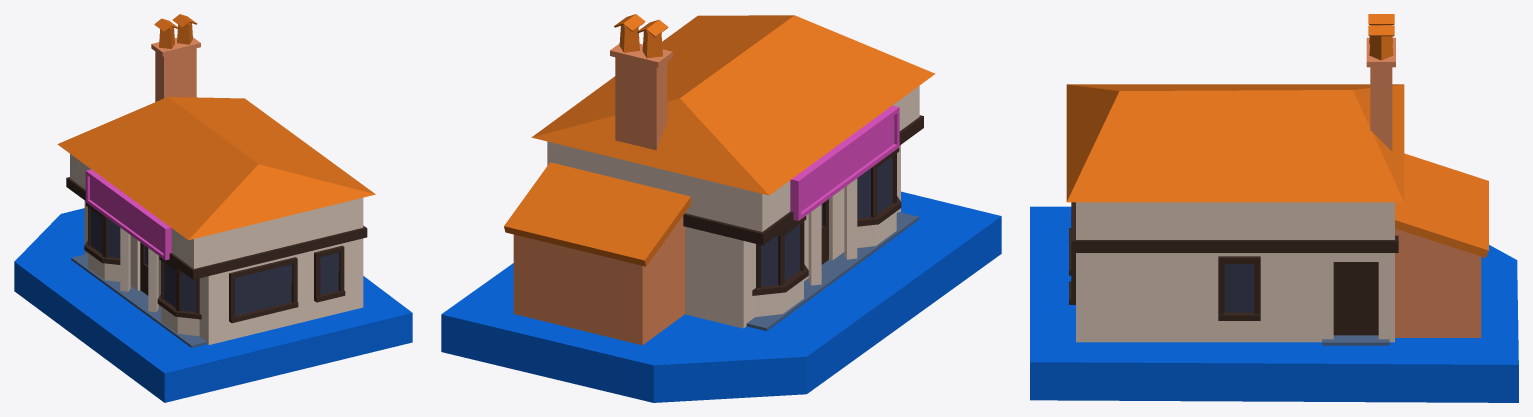
Rendered from Bakery Building3.fbx.
3 renders of one model, left to right at view 1: azimuth 30°, elevation 25°; view 2: azimuth 150°, elevation 25°; view 3: azimuth 270°, elevation 25°, orthographic. The views are drawn at different scales.
Visible parts, largest first — view 1: Bakery Terra.002, BakerY Foundation.002, Bakery White walls.002, Bakery Dark Wood.002, Bakery Windows.002, Bakery Sign.002, Bakery Brick.002, Plane.006; view 2: Bakery Terra.002, BakerY Foundation.002, Bakery Brick.002, Bakery White walls.002, Bakery Sign.002, Bakery Dark Wood.002, Bakery Windows.002, Plane.006; view 3: Bakery Terra.002, BakerY Foundation.002, Bakery White walls.002, Bakery Brick.002, Bakery Dark Wood.002, Bakery Windows.002, Plane.006.
Part boxes in pixels (left/top/right/bottom): Bakery Terra.002: left=57, top=14, right=375, bottom=240; BakerY Foundation.002: left=14, top=208, right=412, bottom=402; Bakery White walls.002: left=70, top=154, right=363, bottom=344; Bakery Dark Wood.002: left=66, top=177, right=367, bottom=323; Bakery Windows.002: left=91, top=209, right=339, bottom=315; Bakery Sign.002: left=85, top=169, right=171, bottom=260; Bakery Brick.002: left=151, top=37, right=200, bottom=101; Plane.006: left=71, top=254, right=207, bottom=347; Bakery Terra.002: left=504, top=14, right=935, bottom=266; BakerY Foundation.002: left=441, top=191, right=1001, bottom=402; Bakery Brick.002: left=513, top=43, right=684, bottom=345; Bakery White walls.002: left=547, top=86, right=919, bottom=328; Bakery Sign.002: left=790, top=105, right=899, bottom=220; Bakery Dark Wood.002: left=683, top=115, right=923, bottom=295; Bakery Windows.002: left=761, top=156, right=892, bottom=286; Plane.006: left=746, top=212, right=918, bottom=331; Bakery Terra.002: left=1066, top=14, right=1488, bottom=257; BakerY Foundation.002: left=1030, top=206, right=1518, bottom=402; Bakery White walls.002: left=1076, top=202, right=1394, bottom=342; Bakery Brick.002: left=1366, top=37, right=1481, bottom=337; Bakery Dark Wood.002: left=1069, top=202, right=1398, bottom=335; Bakery Windows.002: left=1224, top=264, right=1254, bottom=312; Plane.006: left=1322, top=335, right=1389, bottom=345.
Bounding box in the file's own units: 13.92 × 13.02 × 18.16.
